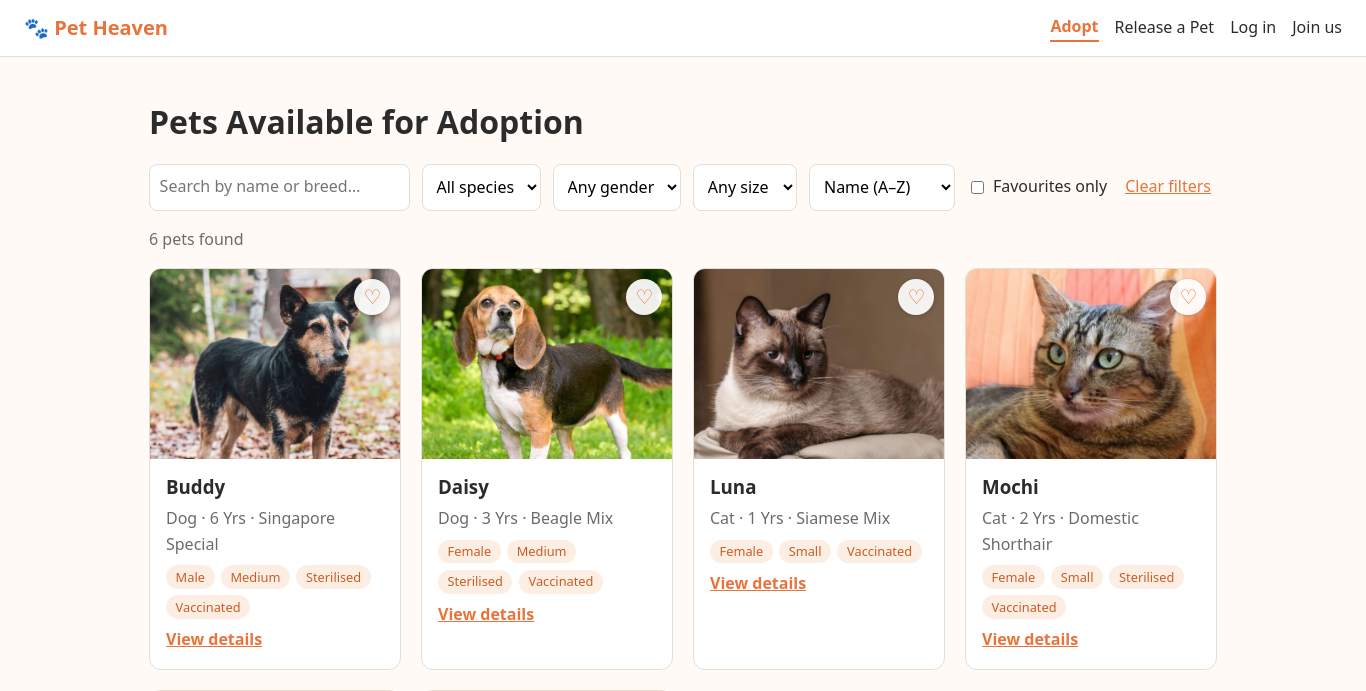
Test case: Browsing pets › lets visitors favourite a pet and filter by favourites
Click the button named "Add Mochi to favourites" at [1188, 297], box [1170,279,1206,315]
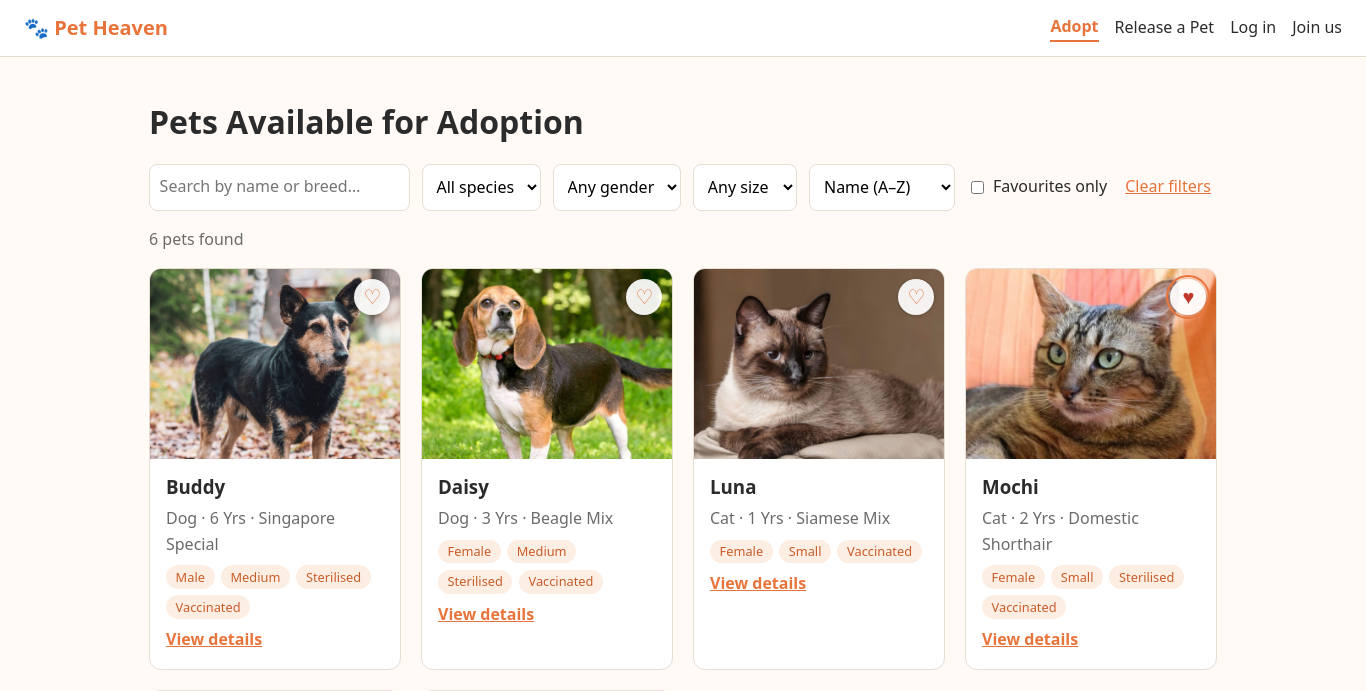
expect the button named "Remove Mochi from favourites" is shown: met, box [1170,279,1206,315]
Click the checkbox labelled "Favourites only" at [977, 187], box [971,181,984,194]
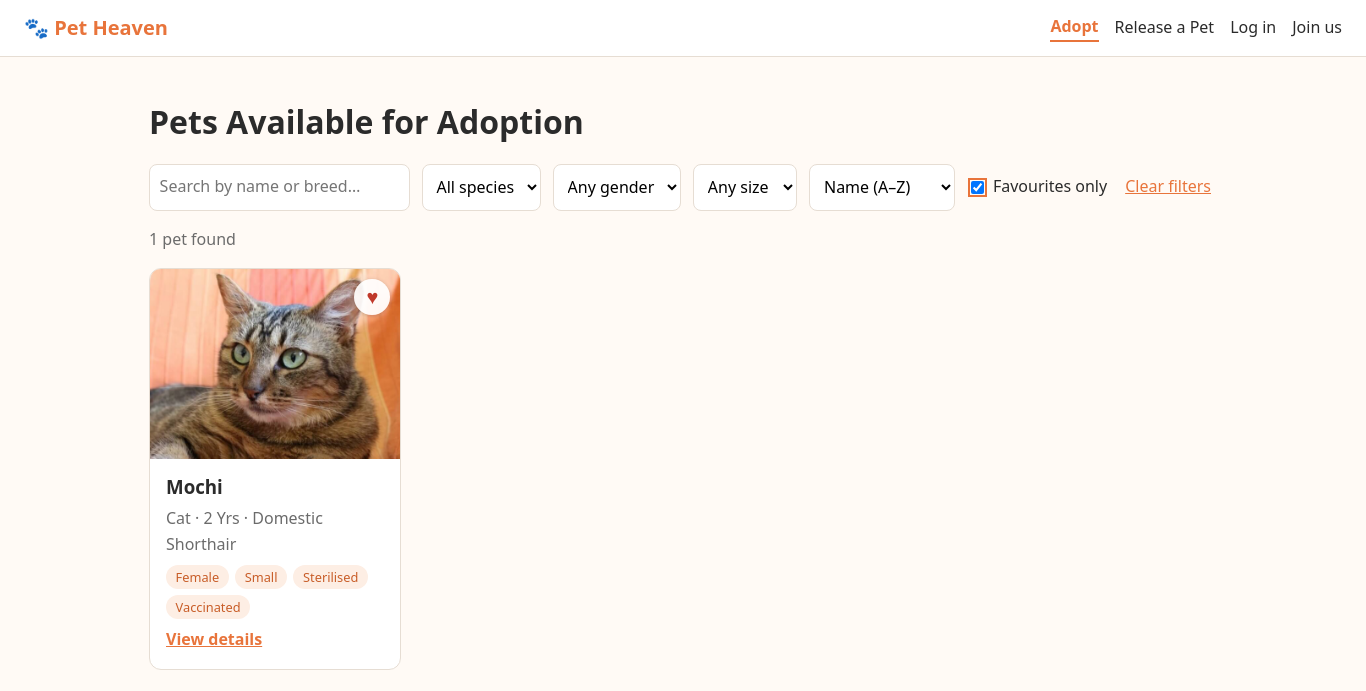
expect the text "1 pet found" is shown: met, box [149,228,236,250]
